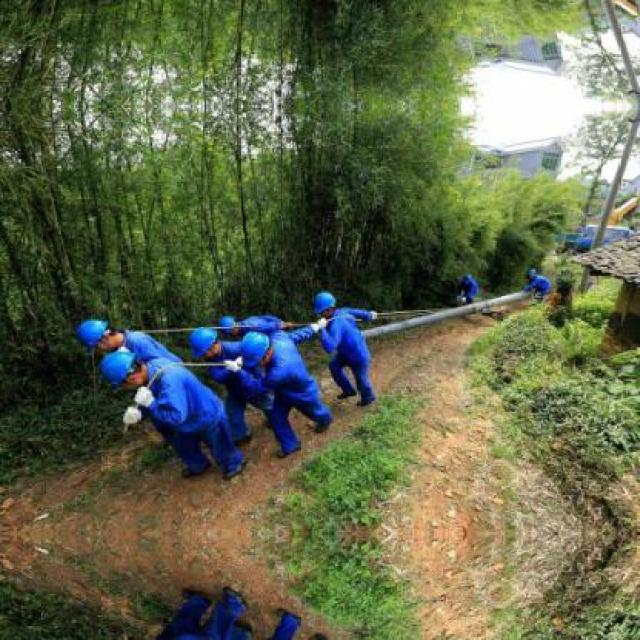helmet: (98, 350, 145, 383), (237, 329, 274, 367), (74, 316, 114, 350), (189, 324, 223, 358), (311, 287, 335, 316), (217, 312, 238, 334), (526, 264, 539, 278), (459, 271, 473, 283)
